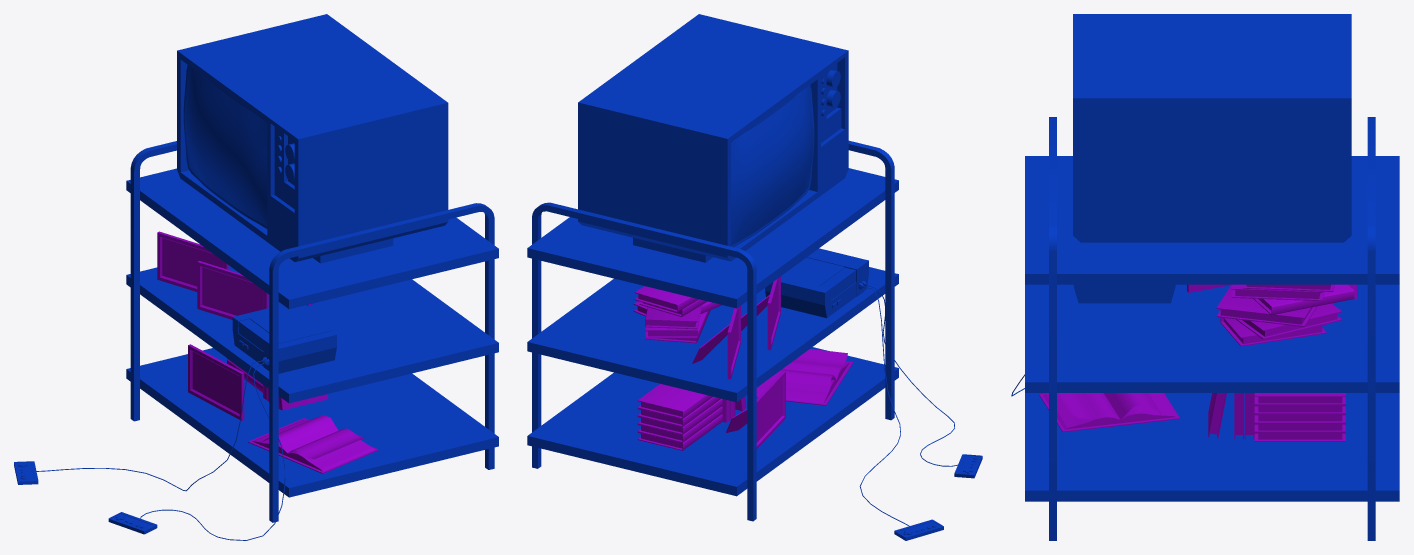
File: TV Asset Export.FBX
3 renders of one model, left to right at view 1: azimuth 30°, elevation 25°; view 2: azimuth 150°, elevation 25°; view 3: azimuth 270°, elevation 25°, orthographic. The views are drawn at different scales.
Visible parts, largest first — view 1: TV Assets, Low Poly Book Open Cover001, Picture Frame014, Picture Frame015, Picture Frame013; view 2: TV Assets, Low Poly Book Open Cover001, Low Poly Book Closed Cover041, Picture Frame015, Low Poly Book Closed Cover035, Low Poly Book Closed Cover037, Picture Frame013, Picture Frame014, Low Poly Book Closed Cover038, Low Poly Book Closed Cover026, Low Poly Book Closed Cover039, Low Poly Book Closed Cover040 (+1 smaller); view 3: TV Assets, Low Poly Book Open Cover001, Low Poly Book Closed Cover034, Low Poly Book Closed Cover033, Low Poly Book Closed Cover041, Low Poly Book Closed Cover035, Low Poly Book Closed Cover032, Low Poly Book Closed Cover036, Low Poly Book Closed Cover039, Low Poly Book Closed Cover026, Low Poly Book Closed Cover038, Low Poly Book Closed Cover040 (+3 smaller).
Part boxes in pixels (left/top/right/bottom): TV Assets: left=14, top=14, right=498, bottom=540; Low Poly Book Open Cover001: left=248, top=415, right=378, bottom=473; Picture Frame014: left=197, top=261, right=268, bottom=319; Picture Frame015: left=188, top=344, right=244, bottom=420; Picture Frame013: left=157, top=231, right=228, bottom=291; TV Assets: left=527, top=14, right=982, bottom=540; Low Poly Book Open Cover001: left=756, top=349, right=853, bottom=405; Low Poly Book Closed Cover041: left=637, top=384, right=712, bottom=418; Picture Frame015: left=756, top=371, right=785, bottom=449; Low Poly Book Closed Cover035: left=645, top=305, right=702, bottom=329; Low Poly Book Closed Cover037: left=634, top=286, right=698, bottom=312; Picture Frame013: left=727, top=306, right=740, bottom=379; Picture Frame014: left=767, top=276, right=780, bottom=350; Low Poly Book Closed Cover038: left=637, top=406, right=722, bottom=442; Low Poly Book Closed Cover026: left=637, top=414, right=722, bottom=450; Low Poly Book Closed Cover039: left=637, top=398, right=722, bottom=434; Low Poly Book Closed Cover040: left=637, top=396, right=720, bottom=426; TV Assets: left=1011, top=14, right=1399, bottom=540; Low Poly Book Open Cover001: left=1039, top=393, right=1179, bottom=432; Low Poly Book Closed Cover034: left=1216, top=284, right=1317, bottom=326; Low Poly Book Closed Cover033: left=1236, top=303, right=1342, bottom=339; Low Poly Book Closed Cover041: left=1254, top=393, right=1345, bottom=405; Low Poly Book Closed Cover035: left=1253, top=284, right=1354, bottom=315; Low Poly Book Closed Cover032: left=1220, top=317, right=1326, bottom=346; Low Poly Book Closed Cover036: left=1231, top=284, right=1324, bottom=301; Low Poly Book Closed Cover039: left=1254, top=414, right=1345, bottom=423; Low Poly Book Closed Cover026: left=1254, top=432, right=1345, bottom=441; Low Poly Book Closed Cover038: left=1254, top=423, right=1345, bottom=432; Low Poly Book Closed Cover040: left=1254, top=405, right=1345, bottom=414.
Bounding box in the file's own units: 125 × 117 × 97.43.
